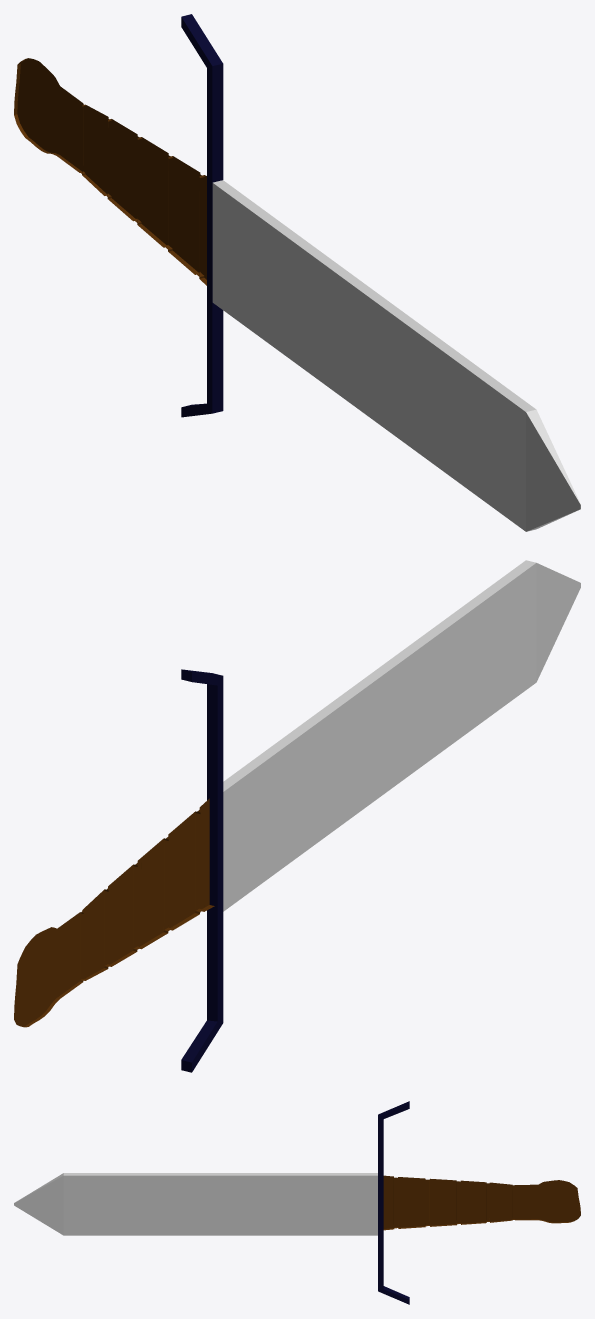
Rendered from W_Knife.fbx.
3 renders of one model, top to bottom at view 1: azimuth 30°, elevation 25°; view 2: azimuth 150°, elevation 25°; view 3: azimuth 270°, elevation 25°, orthographic. The views are drawn at different scales.
Visible parts, largest first — view 1: Cube.001; view 2: Cube.001; view 3: Cube.001.
Boxes of the visible parts, x1,y1,x2,y2 form: Cube.001: (14, 14, 580, 531); Cube.001: (14, 560, 580, 1072); Cube.001: (14, 1101, 580, 1304).
Size of the model in its own units: 0.4145 by 14.74 by 37.68.
